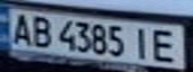3: (72, 19, 93, 54)
4: (54, 17, 75, 52)
5: (106, 24, 130, 58)
8: (90, 20, 109, 56)
A: (6, 10, 36, 46)
B: (27, 14, 54, 48)
E: (148, 26, 187, 64)
I: (127, 25, 157, 61)
